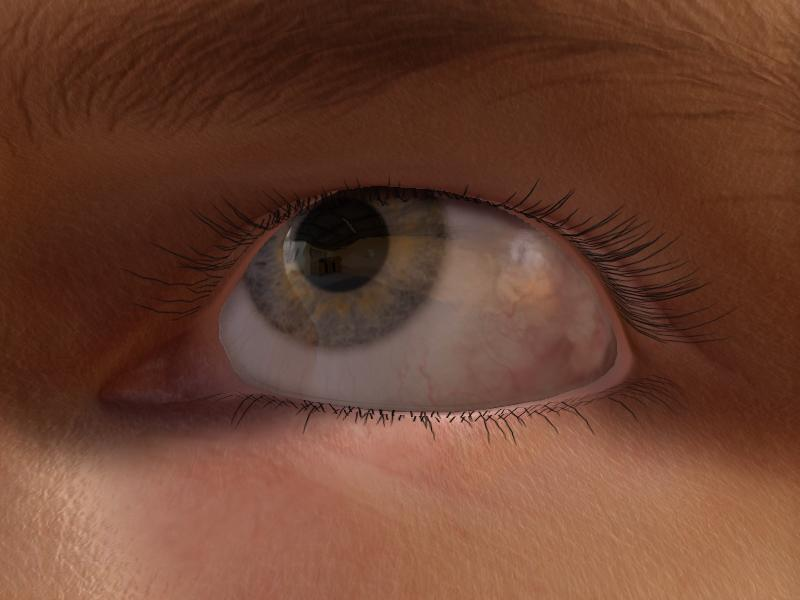eye: (244, 191, 454, 354)
